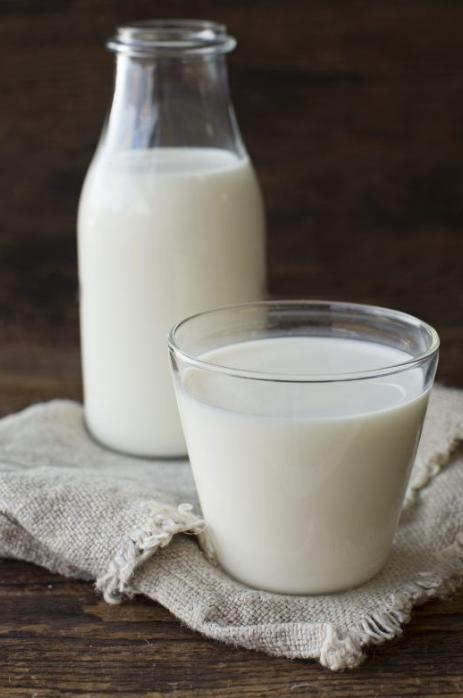produk_susu: (185, 320, 410, 582), (103, 34, 249, 290)
